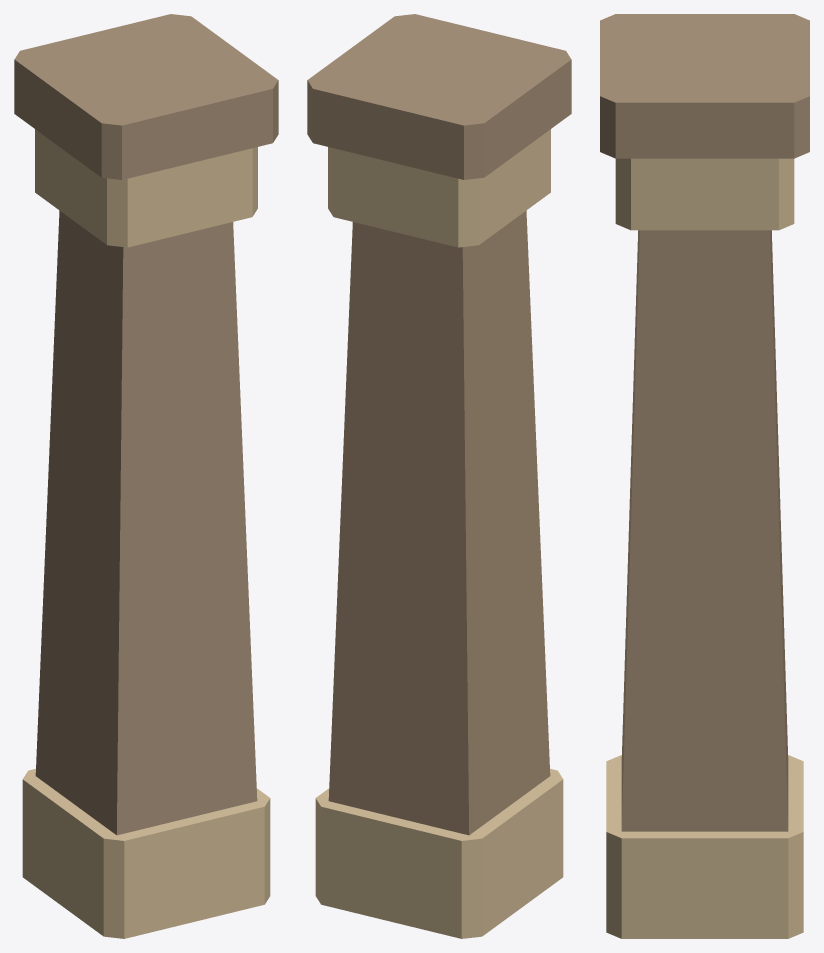
Rendered from corner_pier.glb.
The picture shows the model from 3 angles, left to right: view 1: azimuth 30°, elevation 25°; view 2: azimuth 150°, elevation 25°; view 3: azimuth 270°, elevation 25°; orthographic projection. The views are drawn at different scales.
Visible parts, largest first — view 1: Corner pier; view 2: Corner pier; view 3: Corner pier.
Boxes of the visible parts, x1,y1,x2,y2 form: Corner pier: (14, 14, 278, 938); Corner pier: (307, 14, 571, 938); Corner pier: (600, 14, 809, 938).
Size of the model in its own units: 0.34 by 1.5 by 0.34.
